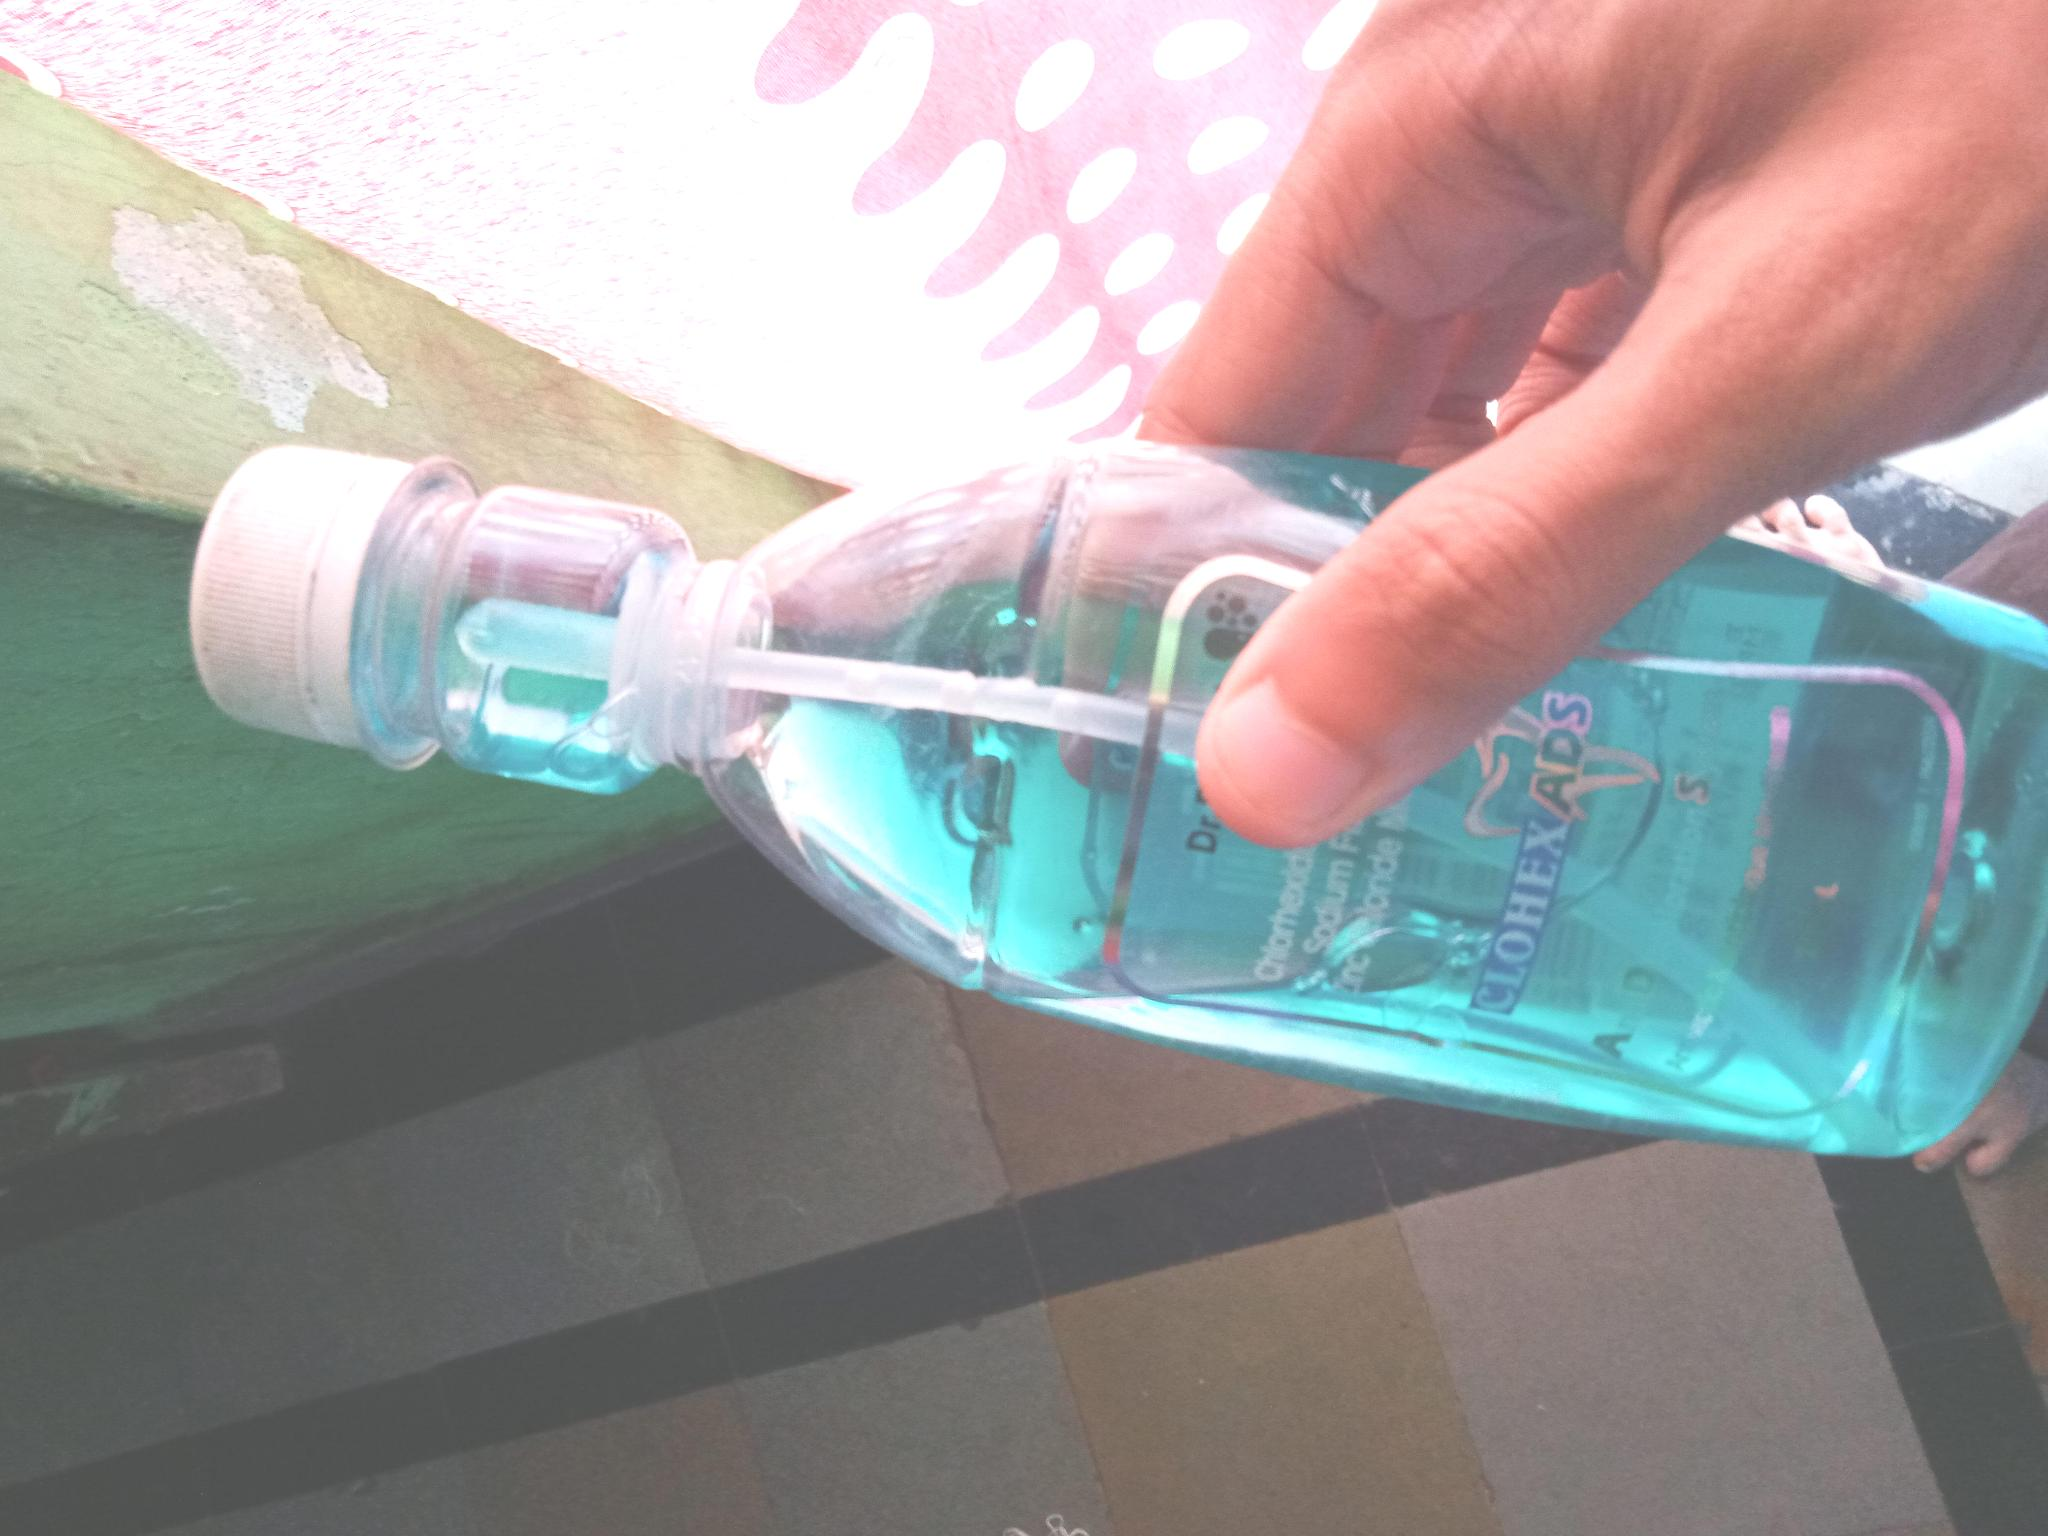bottle: (173, 428, 2048, 1181)
